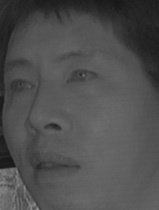eye: (65, 67, 99, 89), (6, 78, 37, 96)
mouth: (28, 151, 81, 183)
